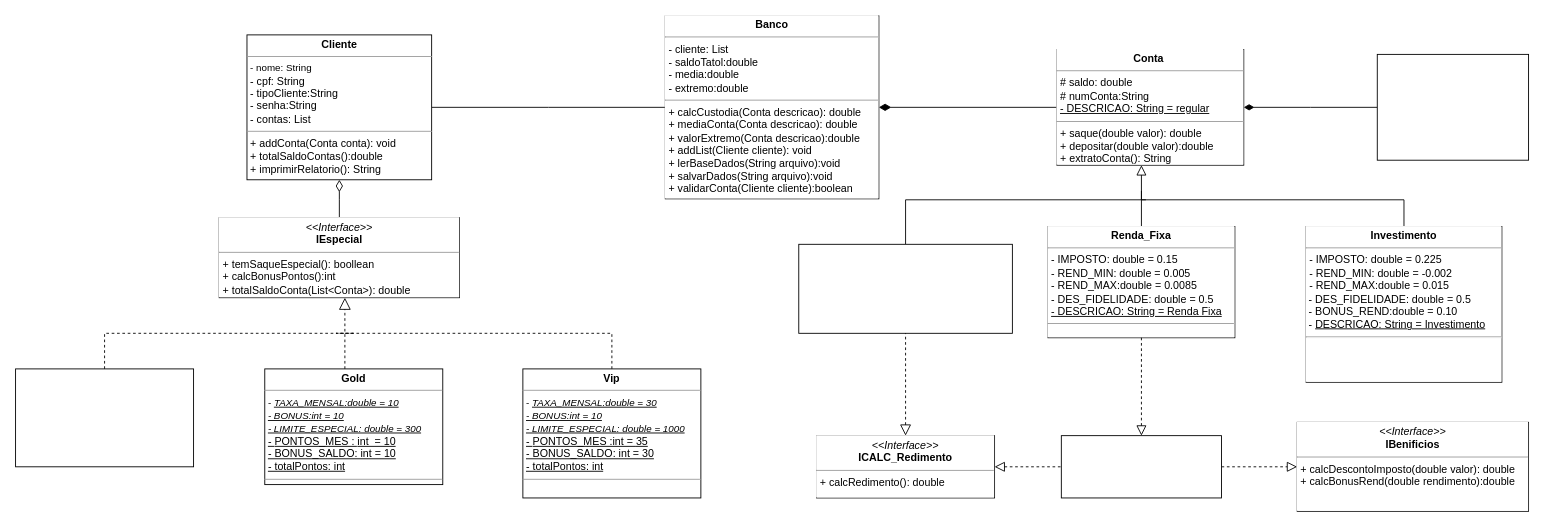
Some shapes in this 1544 by 527 pixel diagram are drawn without their labels. Each missing label, with the box of its shape:
<<Interface>> ICALC_Imposto + calcImposto(): double: (1060, 435, 1222, 498)
Operação - data: LocalDate - tipoOperacao - valor: double + toString(): String: (1376, 53, 1529, 160)
Poupança - REDIMENTO_MES: double = 0.0060 - DESCRICAO: String = Ponpança: (798, 243, 1012, 333)
Regular - TAXA_MENSAL:double = 0 - tipo:String: (15, 368, 194, 467)
